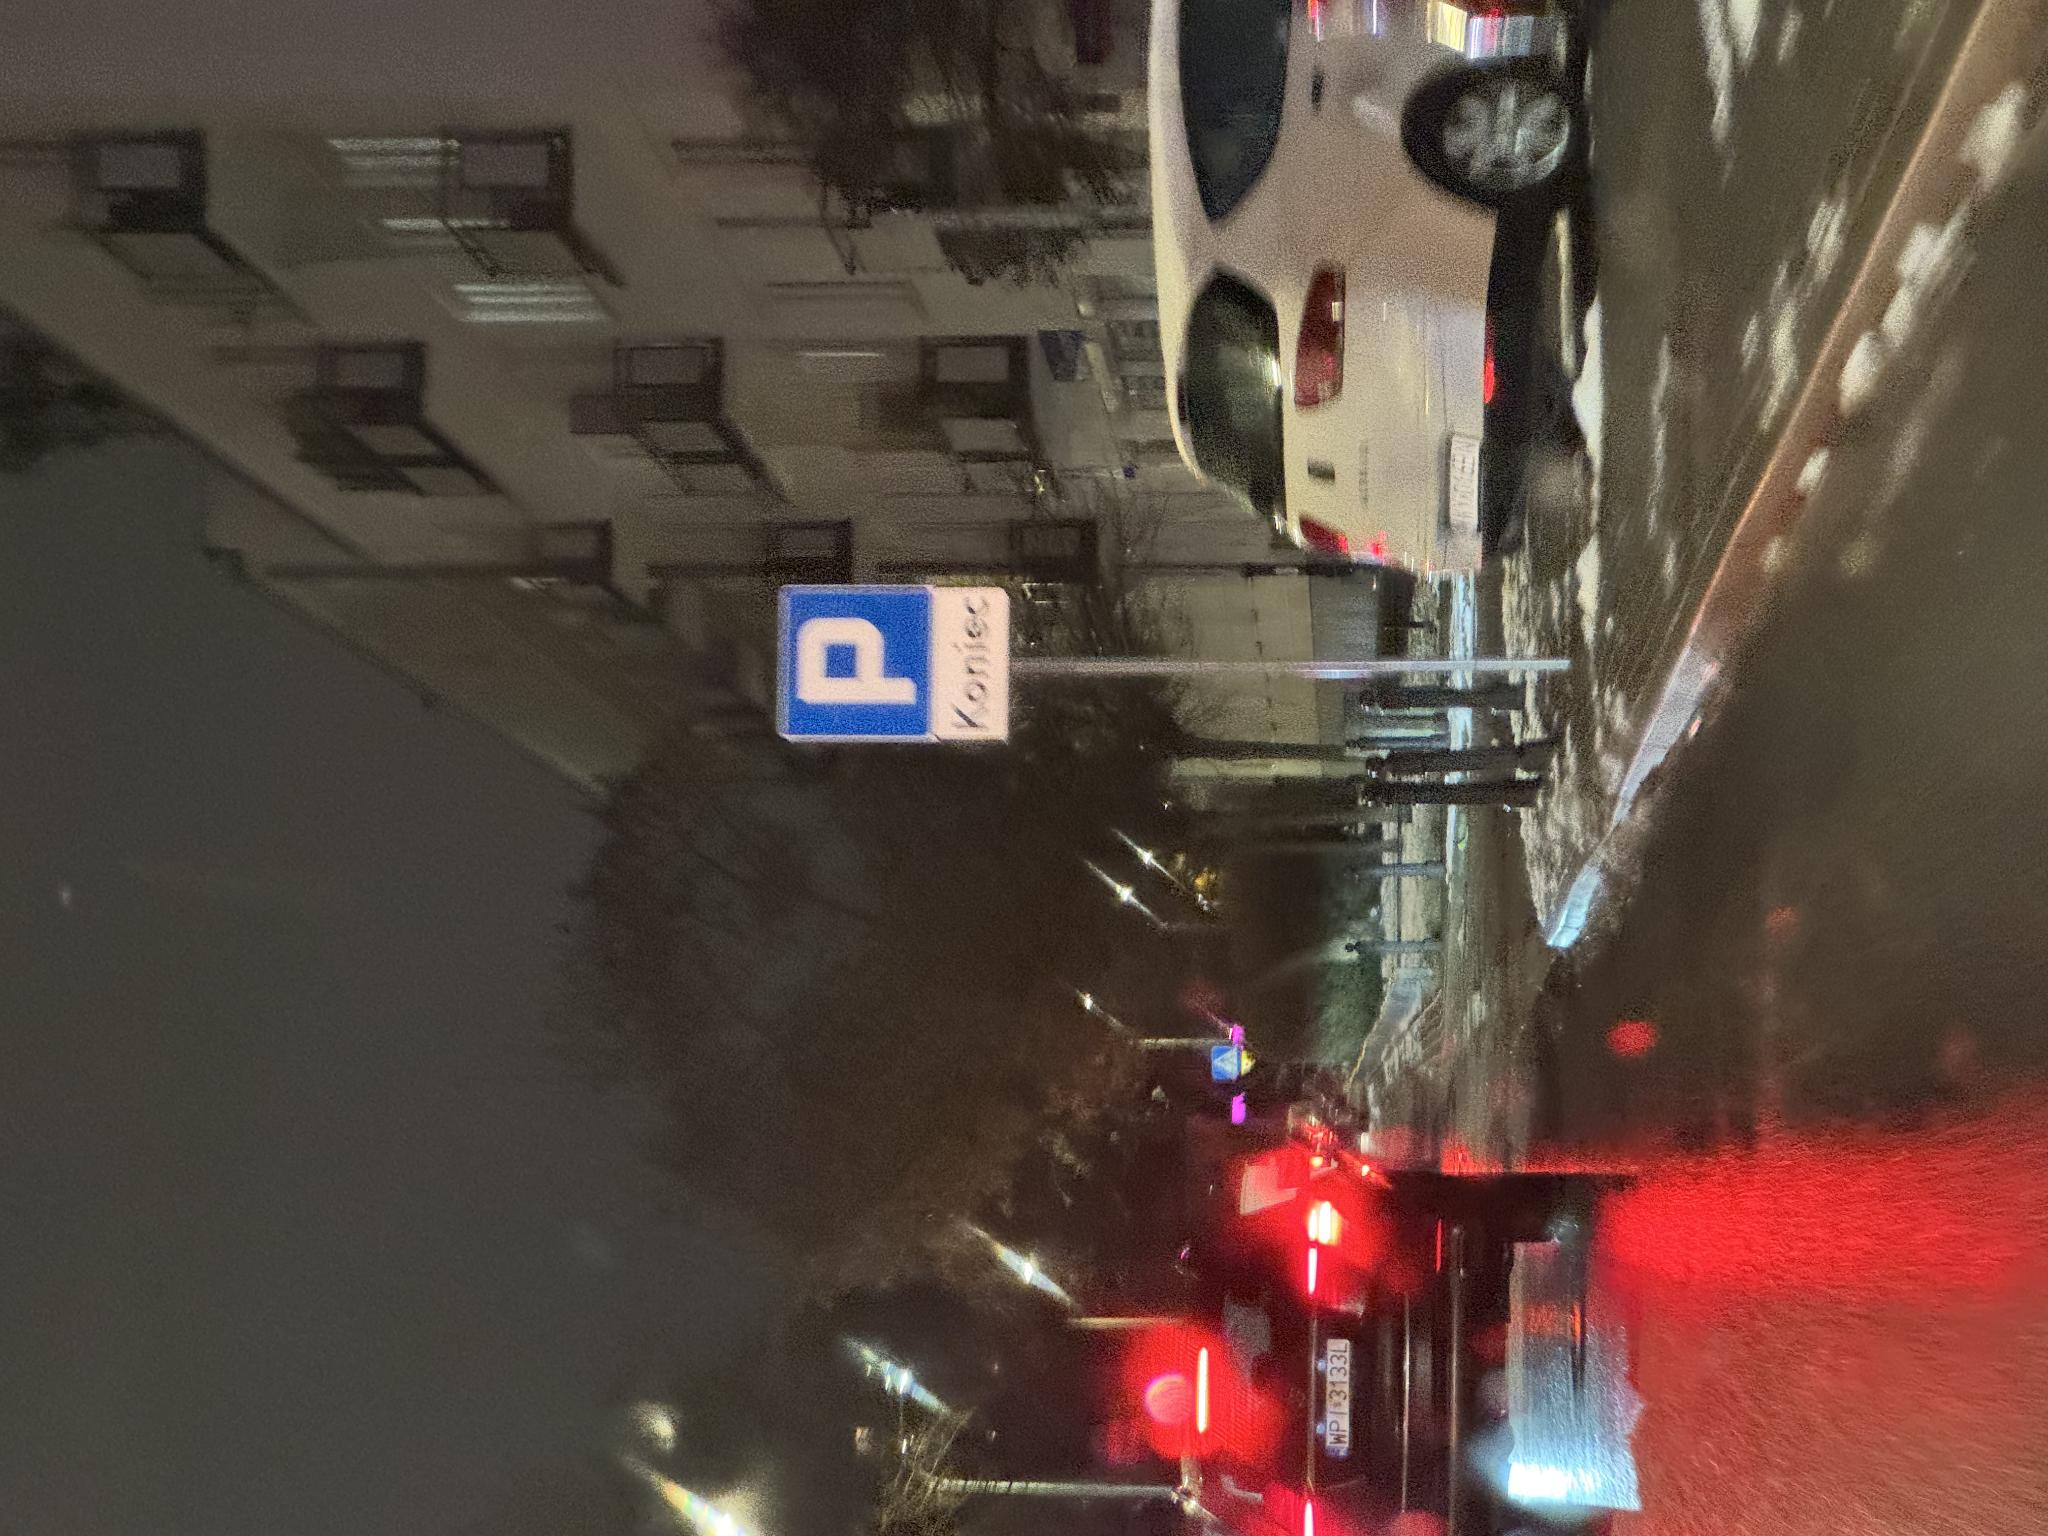information: (795, 774, 951, 936), (455, 1210, 490, 1241)
other: (793, 937, 953, 1013)
